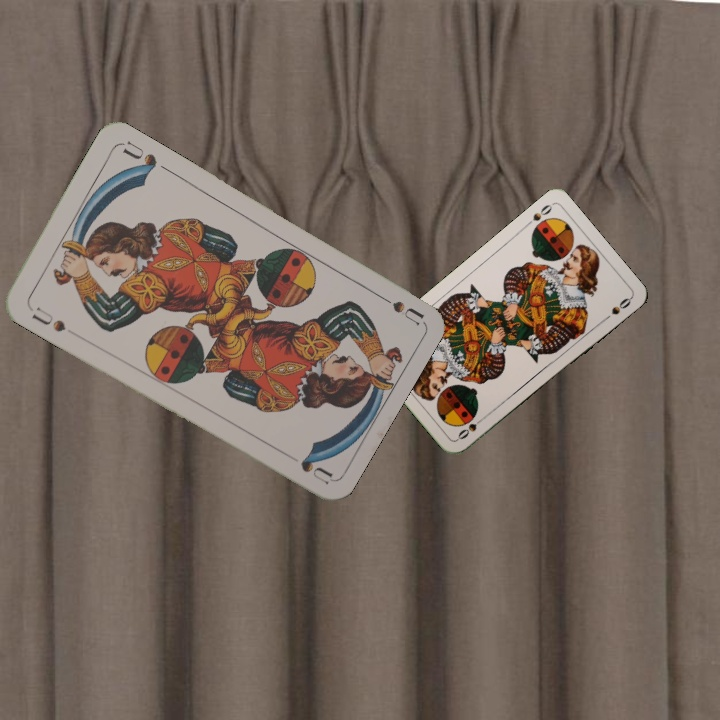SO: (453, 413, 487, 443), (521, 200, 555, 230)
SU: (369, 287, 425, 327), (24, 301, 69, 335)
